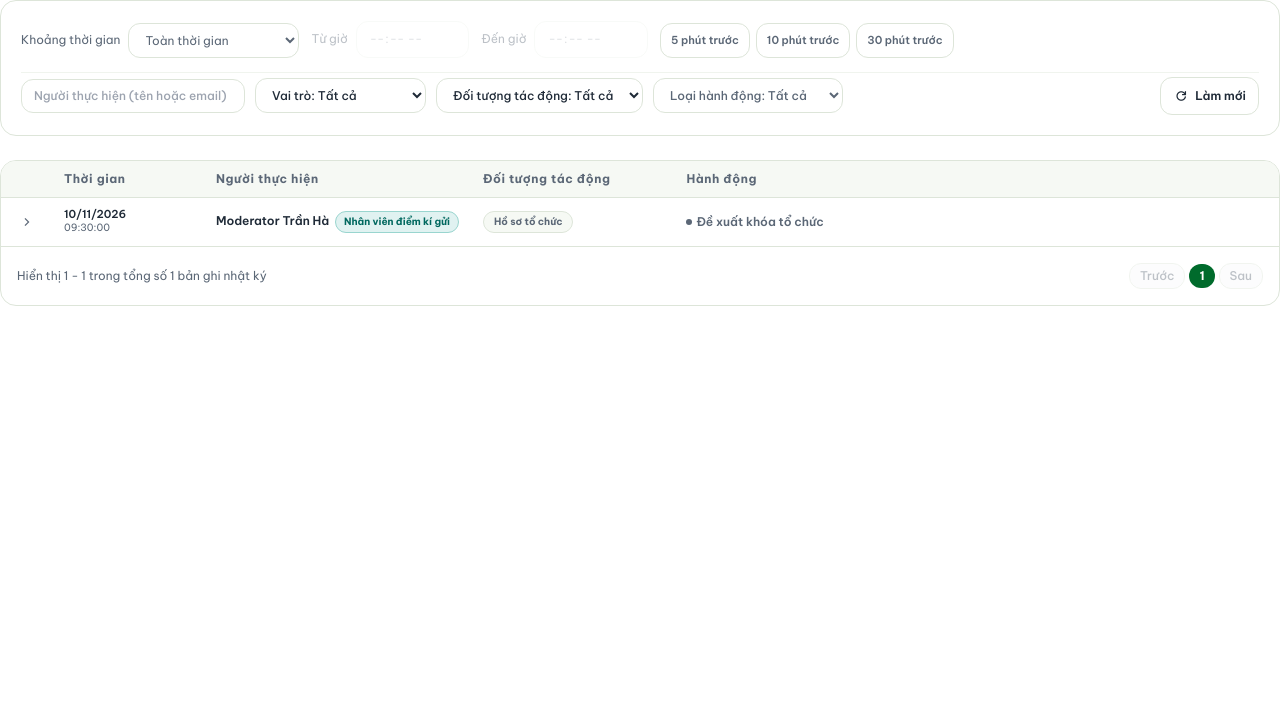
Test: Admin Violation Report Flow (Audit Logs & Moderator PROPOSE_BAN) › renders Vietnamese labels and closedReportCount for violation resolution audit logs in AdminAuditLogsView
Click the button named "Xem chi tiết nhật ký" at (27, 222), box [17,208,37,236]
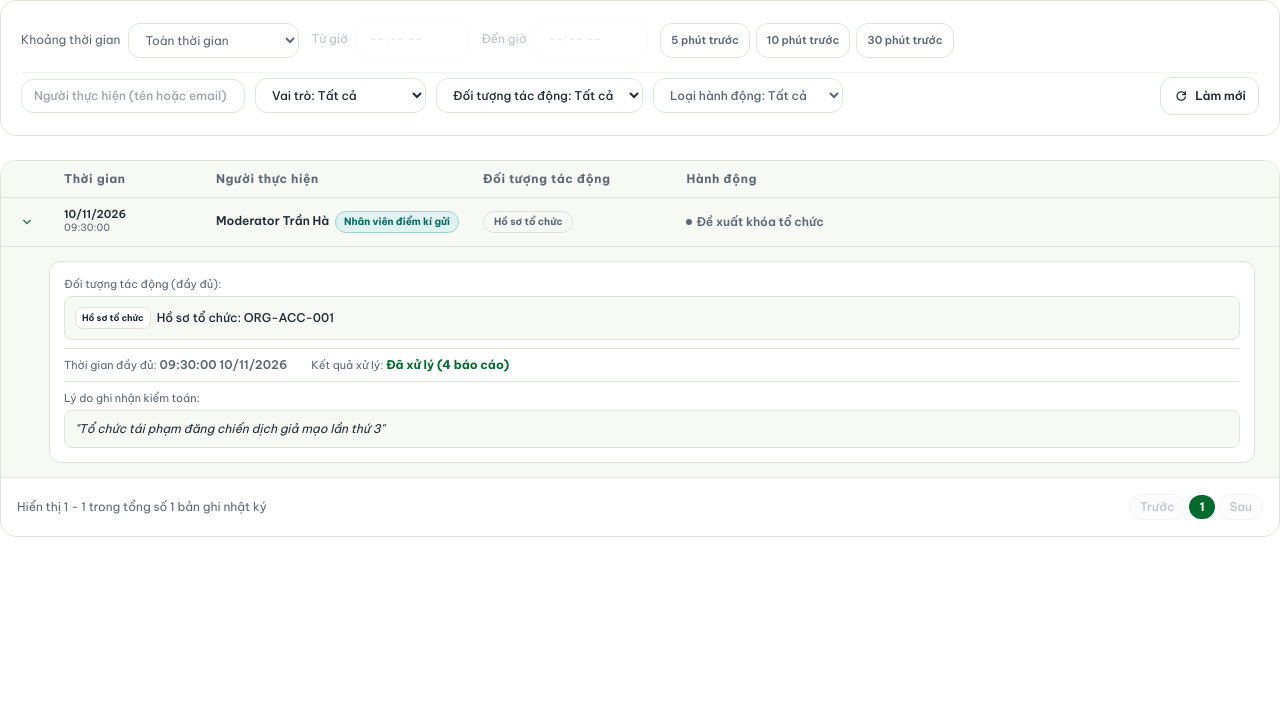
Expected: the text "\"Tổ chức tái phạm đăng chiến dịch giả mạo lần thứ 3\"" is shown, [64,410,1240,448]
Expected: the text "Đã xử lý (4 báo cáo)" is shown, [386,357,509,372]
